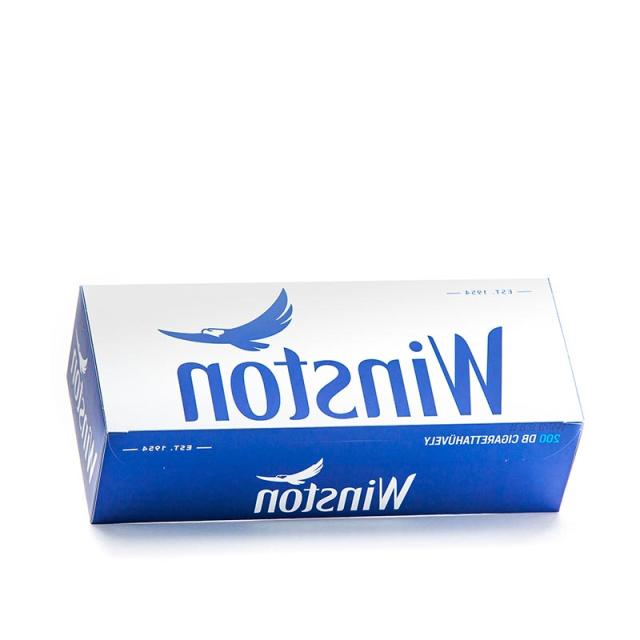winston: (45, 270, 603, 528)
